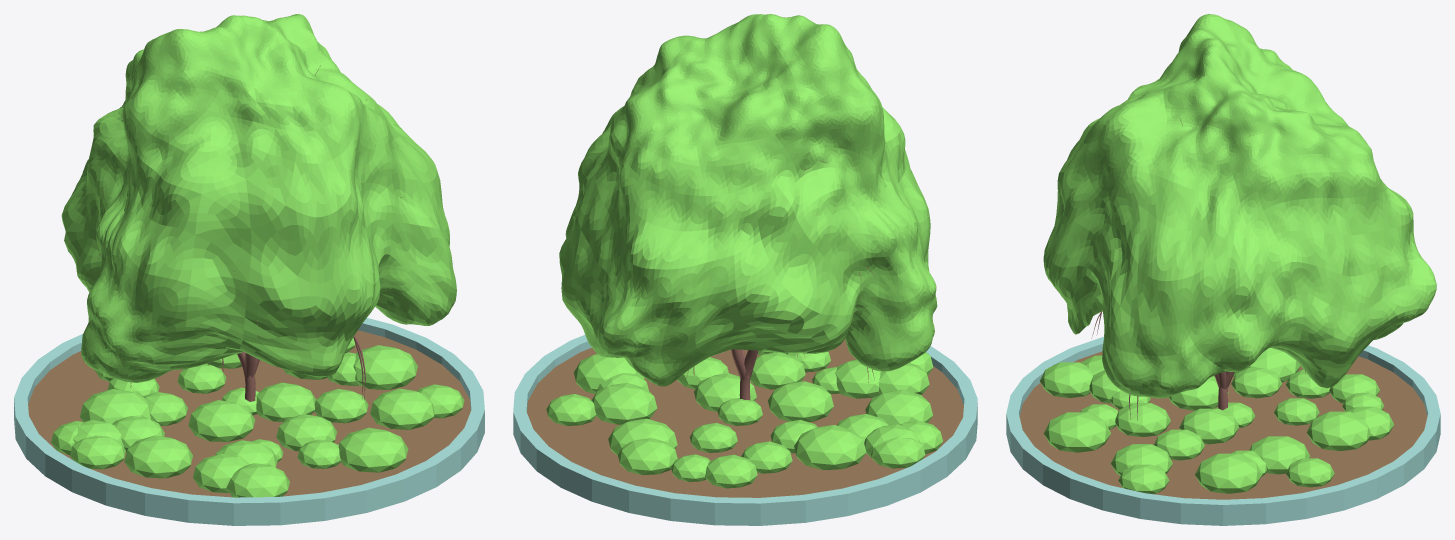
Rendered from tree.fbx.
3 views of the same model, side by side, from view 1: azimuth 30°, elevation 25°; view 2: azimuth 150°, elevation 25°; view 3: azimuth 270°, elevation 25° (orthographic). The views are drawn at different scales.
Parts seen in each view (by area): view 1: Icosphere.001, Cylinder.002, Cylinder.004, Icosphere.013, Icosphere.020, Icosphere.008, Icosphere, Icosphere.012, Icosphere.003, Icosphere.026, Icosphere.016, Icosphere.015 (+14 smaller); view 2: Icosphere.001, Cylinder.004, Cylinder.002, Icosphere.026, Icosphere, Icosphere.007, Icosphere.020, Icosphere.032, Icosphere.015, Icosphere.008, Icosphere.029, Icosphere.017 (+16 smaller); view 3: Icosphere.001, Cylinder.004, Cylinder.002, Icosphere.008, Icosphere.013, Icosphere.005, Icosphere.016, Icosphere.003, Icosphere.015, Icosphere.007, Icosphere.012, Icosphere.027 (+14 smaller).
Part boxes in pixels (left/top/right/bottom): Icosphere.001: left=61, top=14, right=456, bottom=382; Cylinder.002: left=14, top=318, right=484, bottom=525; Cylinder.004: left=28, top=330, right=470, bottom=497; Icosphere.013: left=338, top=427, right=408, bottom=472; Icosphere.020: left=124, top=435, right=192, bottom=478; Icosphere.008: left=353, top=345, right=417, bottom=389; Icosphere: left=188, top=400, right=255, bottom=441; Icosphere.012: left=370, top=388, right=434, bottom=429; Icosphere.003: left=256, top=382, right=315, bottom=422; Icosphere.026: left=80, top=389, right=151, bottom=423; Icosphere.016: left=226, top=463, right=289, bottom=497; Icosphere.015: left=276, top=414, right=336, bottom=451; Icosphere.001: left=559, top=14, right=937, bottom=386; Cylinder.004: left=527, top=339, right=963, bottom=497; Cylinder.002: left=513, top=335, right=977, bottom=525; Icosphere.026: left=794, top=425, right=866, bottom=469; Icosphere: left=768, top=381, right=833, bottom=421; Icosphere.007: left=591, top=382, right=657, bottom=424; Icosphere.020: left=865, top=389, right=932, bottom=425; Icosphere.032: left=618, top=438, right=677, bottom=474; Icosphere.015: left=750, top=352, right=805, bottom=389; Icosphere.008: left=573, top=354, right=644, bottom=393; Icosphere.029: left=705, top=454, right=757, bottom=488; Icosphere.017: left=835, top=360, right=880, bottom=398; Icosphere.001: left=1043, top=14, right=1436, bottom=398; Cylinder.004: left=1019, top=351, right=1427, bottom=499; Cylinder.002: left=1006, top=336, right=1440, bottom=525; Icosphere.008: left=1195, top=453, right=1262, bottom=493; Icosphere.013: left=1043, top=412, right=1110, bottom=452; Icosphere.005: left=1306, top=411, right=1370, bottom=450; Icosphere.016: left=1040, top=362, right=1092, bottom=397; Icosphere.003: left=1179, top=408, right=1239, bottom=444; Icosphere.015: left=1115, top=403, right=1170, bottom=436; Icosphere.007: left=1249, top=436, right=1310, bottom=474; Icosphere.012: left=1111, top=444, right=1172, bottom=475; Icosphere.027: left=1231, top=368, right=1282, bottom=398.
Size of the model in its own units: 752 by 738 by 752.
